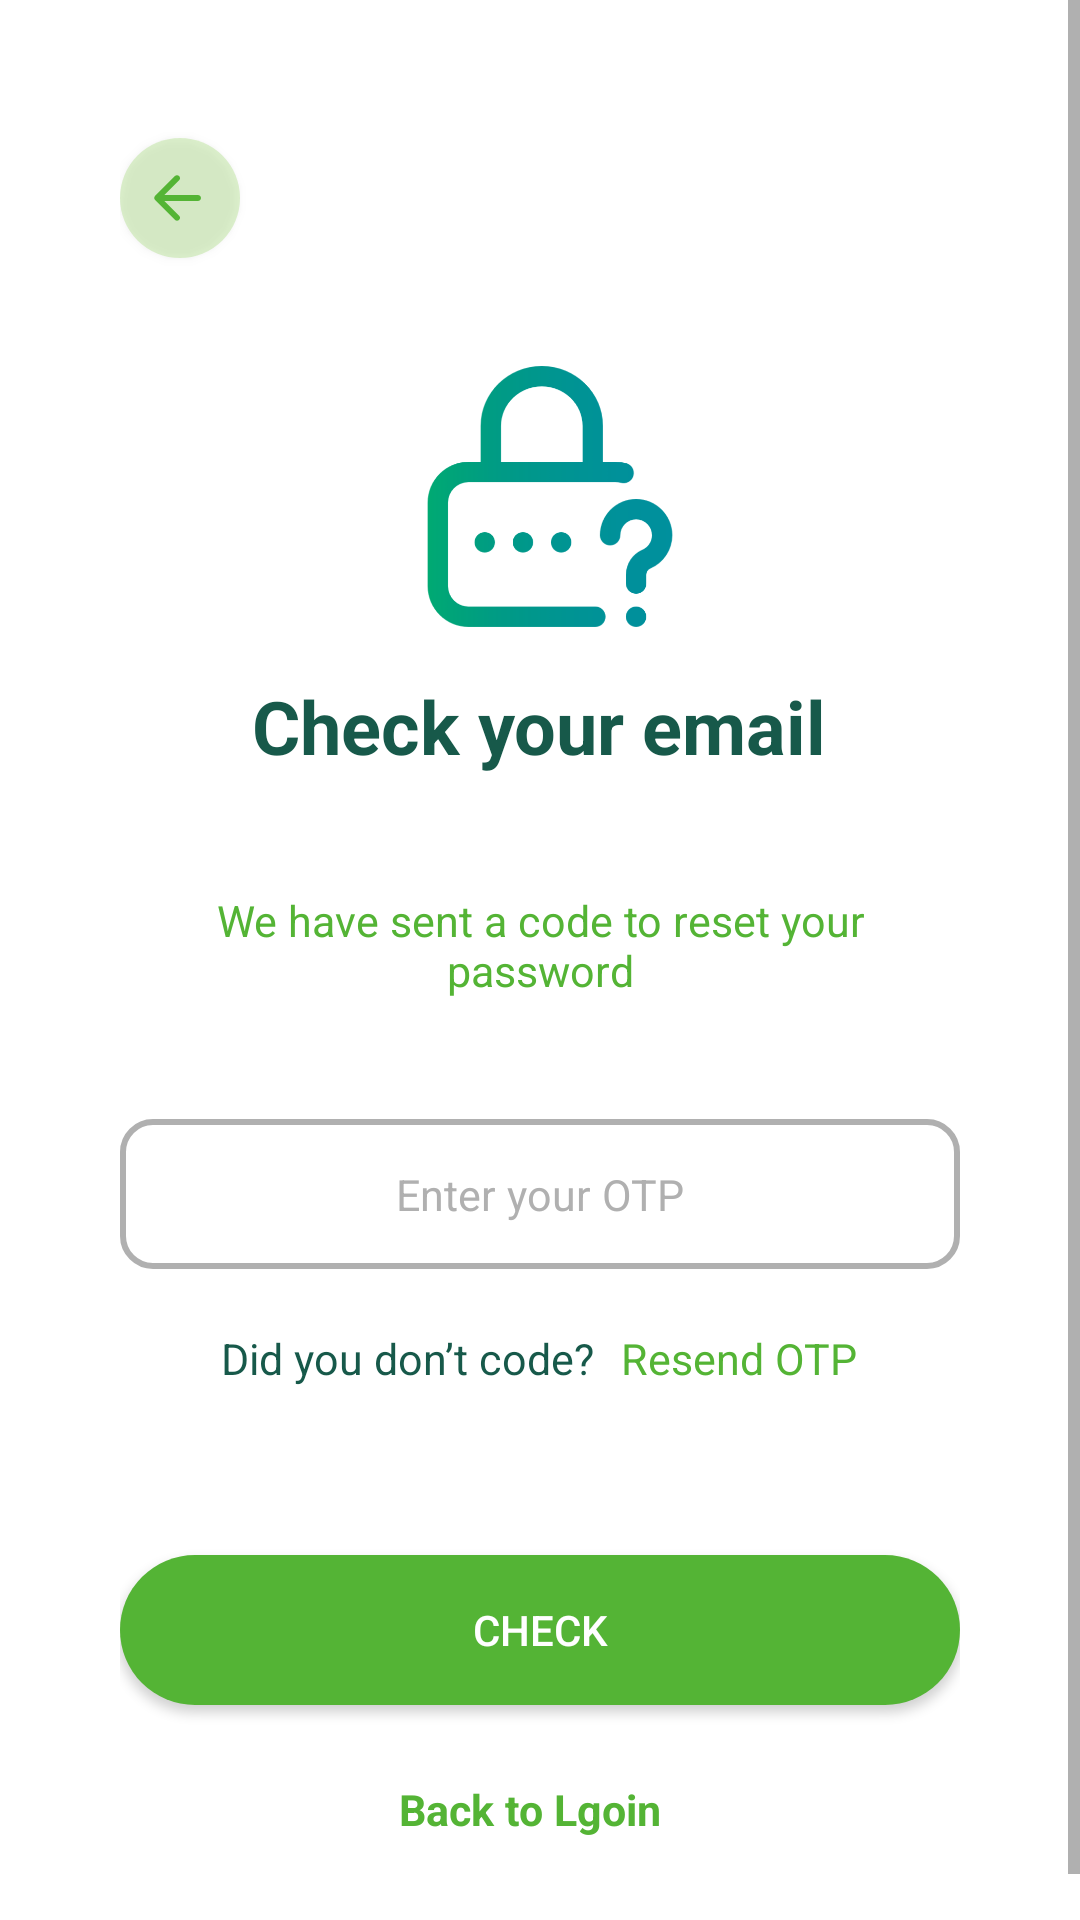

Named icons in this screenshot (1080 × 1920) and their bounding boxes, (x1, y1, x2, y2):
forgot: (427, 366, 673, 627)
